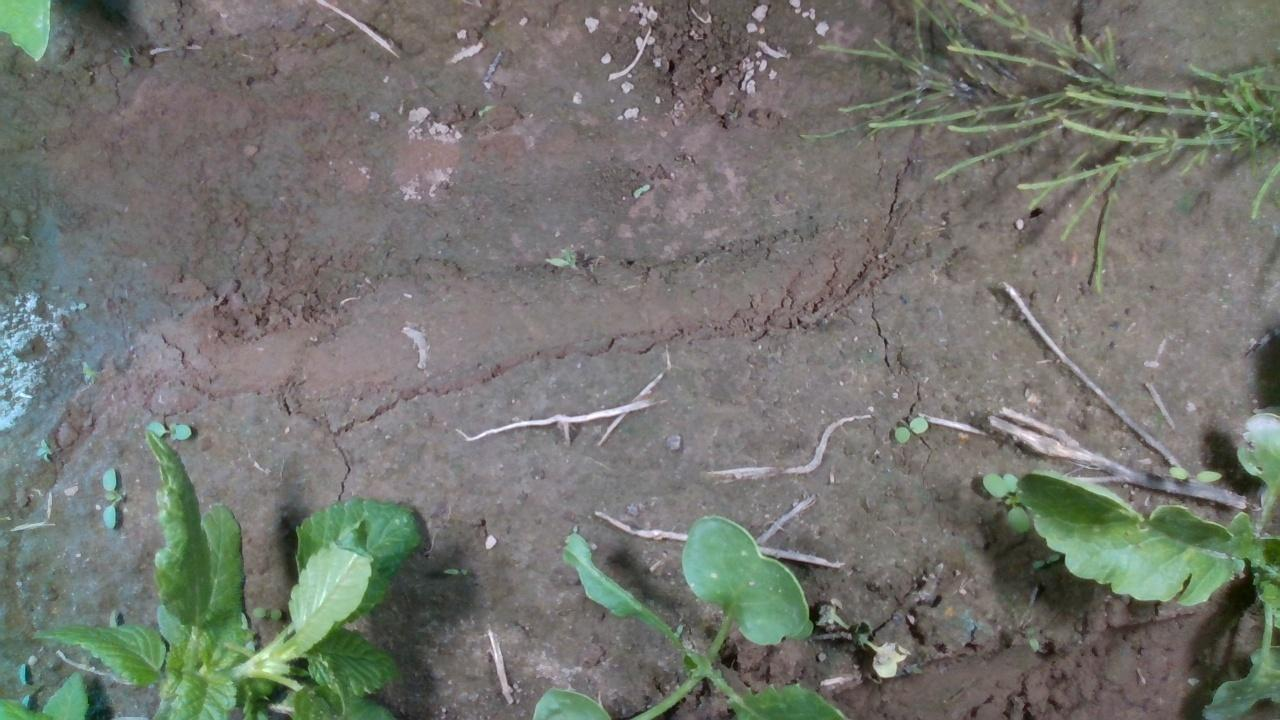weed: (99, 464, 116, 529), (892, 415, 930, 444), (1167, 464, 1222, 483), (250, 604, 283, 618), (67, 300, 88, 310)
